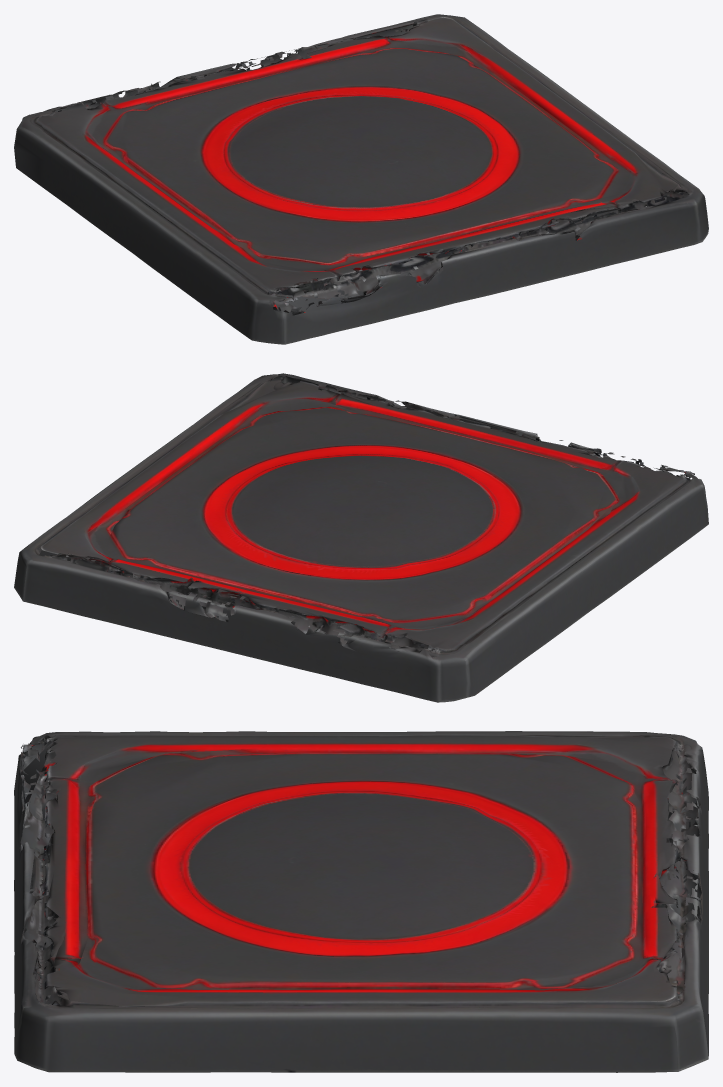
Rendered from Radiant_Circle_0926200739_texture.fbx.
The picture shows the model from 3 angles, top to bottom: view 1: azimuth 30°, elevation 25°; view 2: azimuth 150°, elevation 25°; view 3: azimuth 270°, elevation 25°; orthographic projection. The views are drawn at different scales.
Parts seen in each view (by area): view 1: Mesh0; view 2: Mesh0; view 3: Mesh0.
Part boxes in pixels (x1=…): Mesh0: x1=14, y1=14, x2=708, y2=344; Mesh0: x1=14, y1=373, x2=708, y2=702; Mesh0: x1=14, y1=731, x2=708, y2=1072.
Bounding box in the file's own units: 191 × 21.46 × 191.
1 material, 1 textured.
